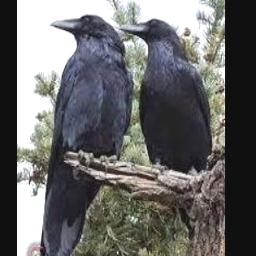Crow: (38, 14, 134, 256), (119, 18, 214, 176)
